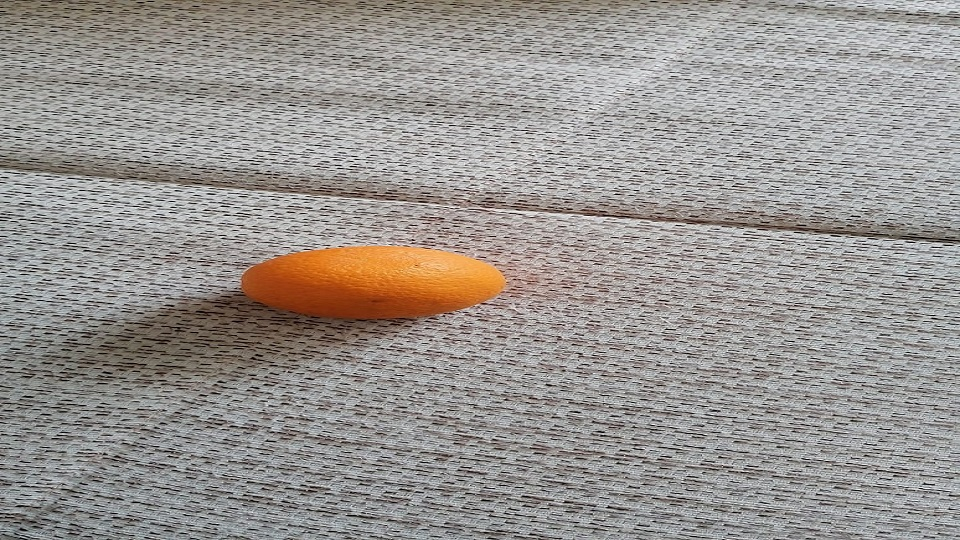portakal: (244, 246, 506, 320)
